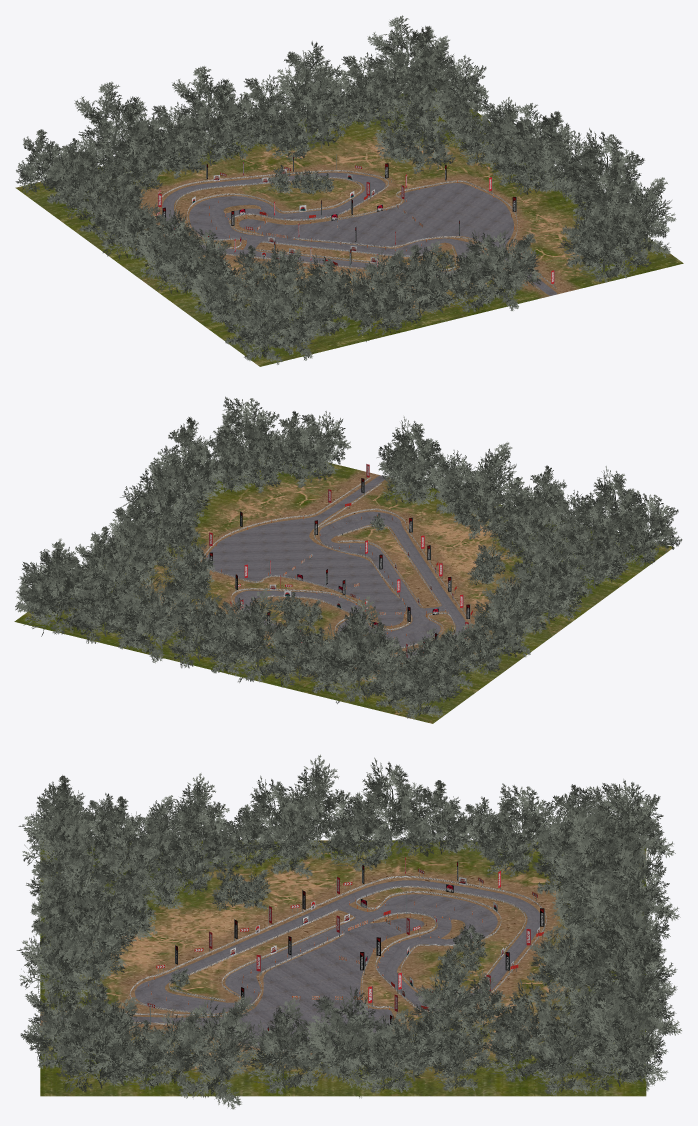
File: drift_race_track.glb
3 renders of one model, top to bottom at view 1: azimuth 30°, elevation 25°; view 2: azimuth 150°, elevation 25°; view 3: azimuth 270°, elevation 25°, orthographic. The views are drawn at different scales.
Visible parts, largest first — view 1: Terrain_0, Road_1, Bush.024_170, Bush.076_222, Bush.086_232, Bush.006_152, Bush.028_174, Bush.055_201, Bush.034_180, Bush.042_188, Bush.089_235, Bush.079_225 (+60 smaller); view 2: Terrain_0, Road_1, Bush.024_170, Bush.034_180, Bush.042_188, Bush.028_174, Bush.079_225, Bush.055_201, Bush.076_222, Bush.080_226, Bush.086_232, Bush.030_176 (+59 smaller); view 3: Terrain_0, Road_1, Bush.024_170, Bush.076_222, Bush.042_188, Bush.055_201, Bush.034_180, Bush.070_216, Bush.028_174, Bush.080_226, Bush.078_224, Bush.086_232 (+63 smaller).
Part boxes in pixels (x1,y1,x2,y2): Terrain_0: (15,88,683,366); Road_1: (162,172,557,295); Bush.024_170: (74,81,164,172); Bush.076_222: (565,128,644,206); Bush.086_232: (476,230,541,310); Bush.006_152: (271,279,335,360); Bush.028_174: (172,66,251,152); Bush.055_201: (496,103,574,191); Bush.034_180: (272,41,344,128); Bush.042_188: (367,15,447,107); Bush.089_235: (388,244,457,320); Bush.079_225: (134,210,200,287); Terrain_0: (14,460,673,723); Road_1: (206,475,465,658); Bush.024_170: (319,595,400,703); Bush.034_180: (117,569,197,663); Bush.042_188: (18,538,96,636); Bush.028_174: (223,588,294,682); Bush.079_225: (513,553,582,634); Bush.055_201: (120,458,196,541); Bush.076_222: (150,417,224,498); Bush.080_226: (483,576,548,657); Bush.086_232: (377,416,445,494); Bush.030_176: (168,603,227,668); Terrain_0: (40,840,646,1096); Road_1: (41,880,539,1050); Bush.024_170: (565,779,675,903); Bush.076_222: (168,995,263,1109); Bush.042_188: (587,971,681,1091); Bush.055_201: (305,985,387,1098); Bush.034_180: (571,903,677,1010); Bush.070_216: (56,999,146,1092); Bush.028_174: (583,852,680,945); Bush.080_226: (346,757,438,856); Bush.078_224: (248,997,320,1094); Bush.086_232: (16,907,95,998).
Bounding box in the file's own units: 508 × 110 × 509.
5 materials, 4 textured.
